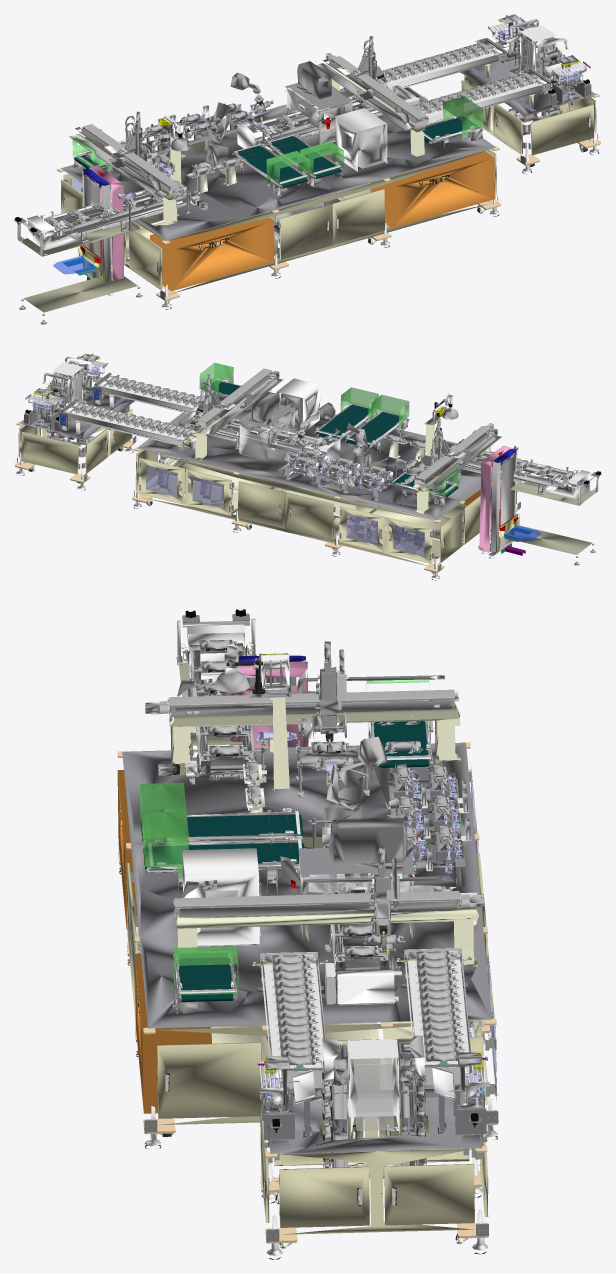
File: cell_leak.glb
3 renders of one model, top to bottom at view 1: azimuth 30°, elevation 25°; view 2: azimuth 150°, elevation 25°; view 3: azimuth 270°, elevation 25°, orthographic. The views are drawn at different scales.
Size of the model in its own units: 6.9 by 1.72 by 2.21.
